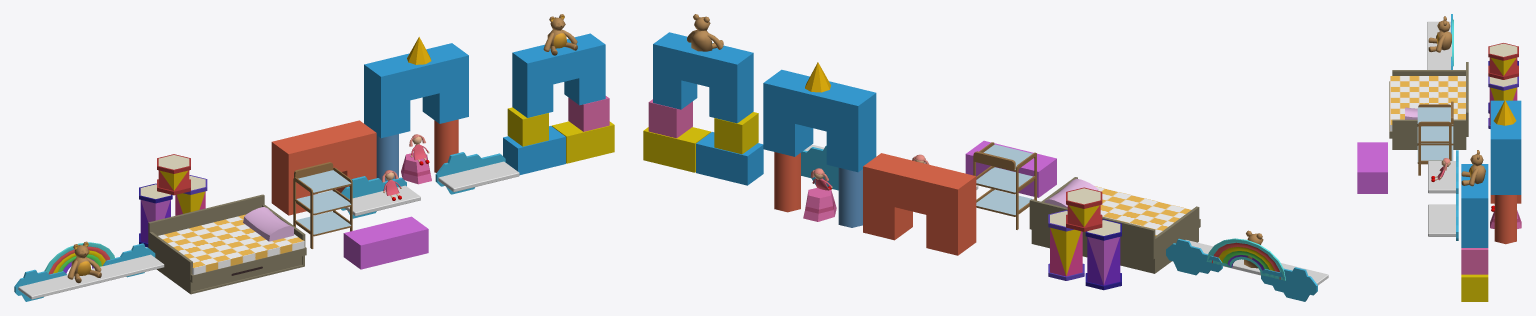
Rendered from Level_8.fbx.
The picture shows the model from 3 angles, left to right: view 1: azimuth 30°, elevation 25°; view 2: azimuth 150°, elevation 25°; view 3: azimuth 270°, elevation 25°; orthographic projection. The views are drawn at different scales.
Visible parts, largest first — view 1: Bed4, Box2, Box3, Box1, Rainbow_Stand, Table, Box, Stand6, pCube22, Stand5, pCube24, drum3 (+11 smaller); view 2: Box1, Box2, Box3, Bed4, Rainbow_Stand, Table, pCube22, drum1, drum2, pCube24, Box, pCylinder5 (+9 smaller); view 3: Bed4, Box2, Table, Box3, Box, pCylinder5, Stand6, drum3, Stand5, Rainbow_Stand, pCube24, pCube25 (+7 smaller).
Part boxes in pixels (bbox=[...]): Bed4: bbox=[148, 194, 306, 294]; Box2: bbox=[364, 43, 468, 138]; Box3: bbox=[512, 33, 605, 117]; Box1: bbox=[271, 120, 376, 215]; Rainbow_Stand: bbox=[14, 242, 164, 301]; Table: bbox=[293, 162, 352, 248]; Box: bbox=[343, 216, 428, 269]; Stand6: bbox=[435, 152, 519, 194]; pCube22: bbox=[503, 126, 565, 174]; Stand5: bbox=[340, 176, 420, 218]; pCube24: bbox=[551, 121, 614, 163]; drum3: bbox=[157, 154, 190, 195]; Box1: bbox=[863, 153, 976, 255]; Box2: bbox=[763, 69, 876, 172]; Box3: bbox=[653, 32, 753, 123]; Bed4: bbox=[1029, 177, 1200, 273]; Rainbow_Stand: bbox=[1166, 238, 1328, 301]; Table: bbox=[973, 142, 1036, 229]; pCube22: bbox=[696, 132, 763, 185]; drum1: bbox=[1085, 219, 1121, 290]; drum2: bbox=[1048, 210, 1084, 280]; pCube24: bbox=[643, 127, 710, 172]; Box: bbox=[965, 140, 1056, 197]; pCylinder5: bbox=[774, 152, 800, 212]; Bed4: bbox=[1389, 62, 1468, 149]; Box2: bbox=[1490, 100, 1521, 194]; Table: bbox=[1417, 101, 1453, 175]; Box3: bbox=[1461, 164, 1488, 247]; Box: bbox=[1357, 142, 1387, 193]; pCylinder5: bbox=[1494, 195, 1516, 244]; Stand6: bbox=[1428, 194, 1458, 240]; drum3: bbox=[1488, 43, 1518, 79]; Stand5: bbox=[1428, 150, 1458, 193]; Rainbow_Stand: bbox=[1427, 14, 1453, 69]; pCube24: bbox=[1461, 274, 1488, 301]; pCube25: bbox=[1461, 248, 1488, 274].
Size of the model in its own units: 26.23 by 5.93 by 6.82.
40 materials, 1 textured.
